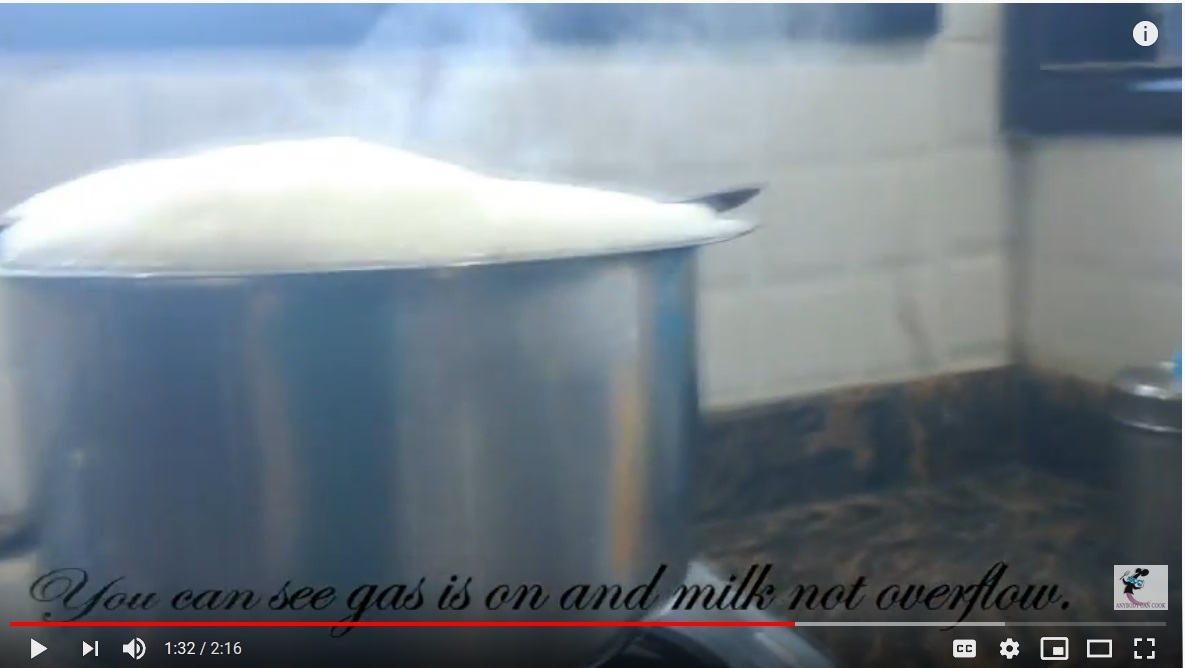Boiled: (1, 133, 763, 405)
